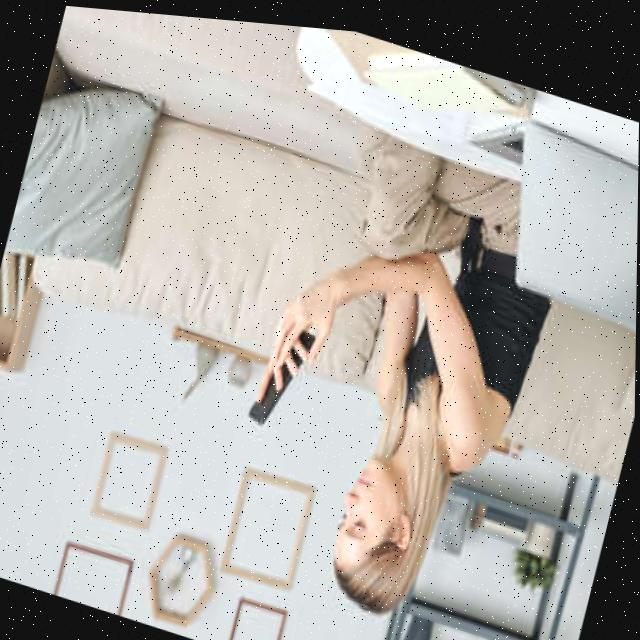smartphone-person: (186, 53, 594, 640)
